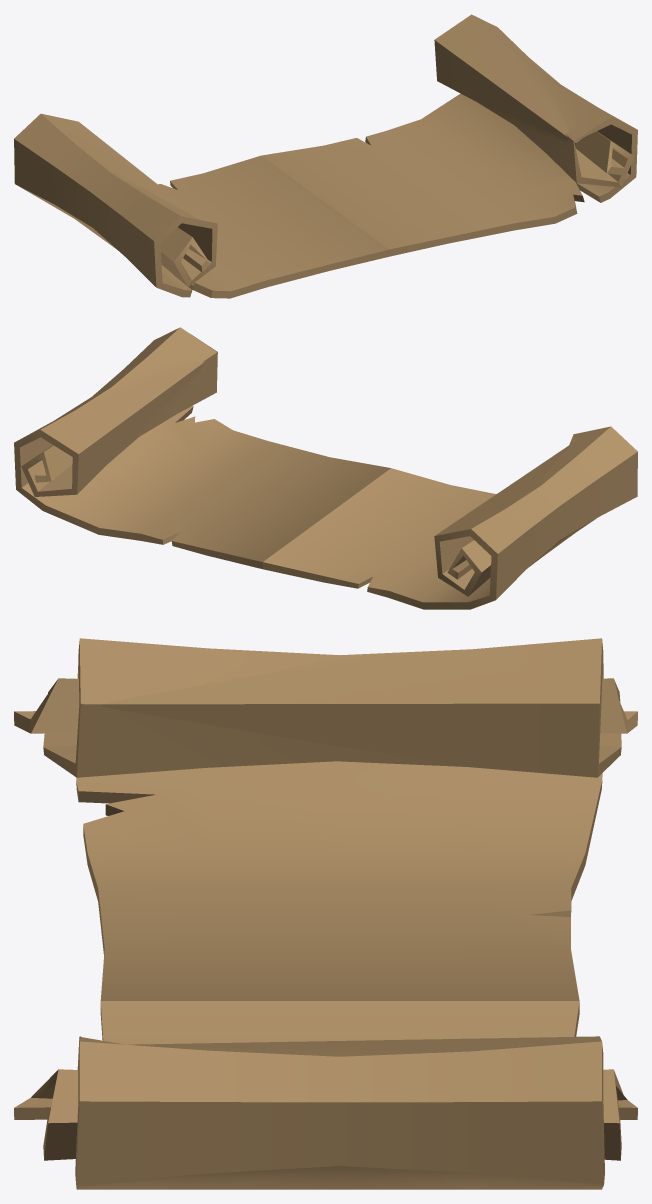
File: pergamino recto.fbx
3 views of the same model, one above another, from view 1: azimuth 30°, elevation 25°; view 2: azimuth 150°, elevation 25°; view 3: azimuth 270°, elevation 25° (orthographic). The views are drawn at different scales.
Visible parts, largest first — view 1: LowPoly; view 2: LowPoly; view 3: LowPoly.
Boxes of the visible parts, left/top/right/bottom form: LowPoly: left=14, top=14, right=637, bottom=298; LowPoly: left=14, top=327, right=637, bottom=609; LowPoly: left=14, top=638, right=637, bottom=1189.
Size of the model in its own units: 2.84 by 0.5666 by 1.7.
